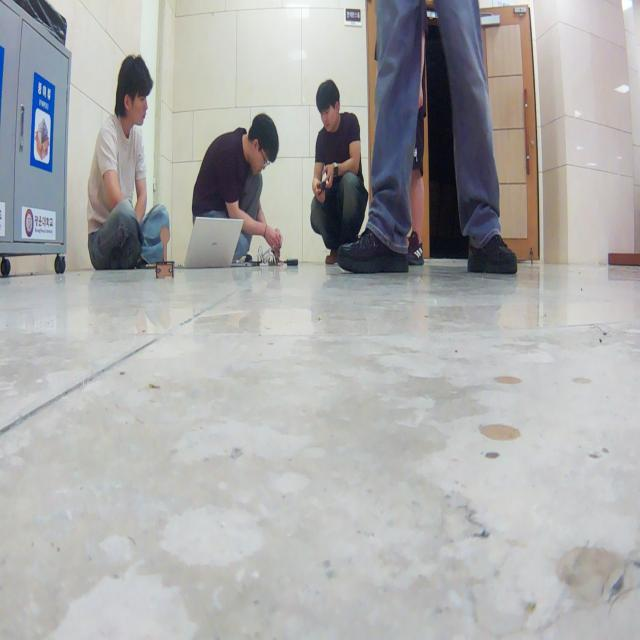target: (156, 226, 174, 278)
